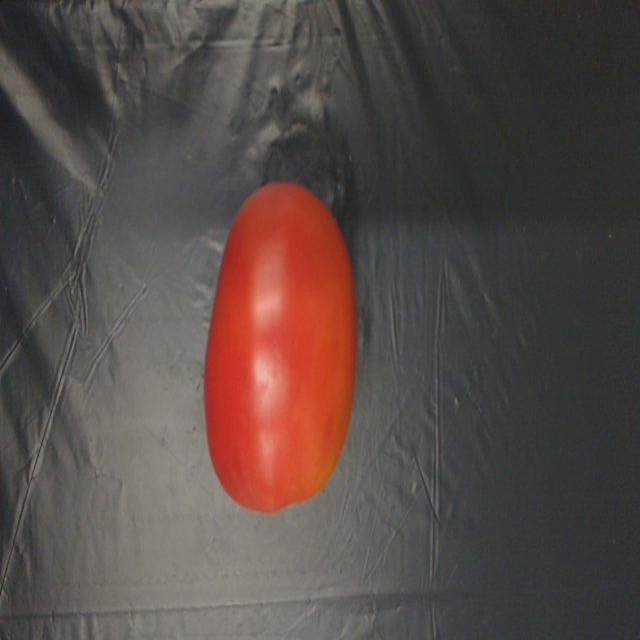kirmizi: (187, 169, 364, 506)
